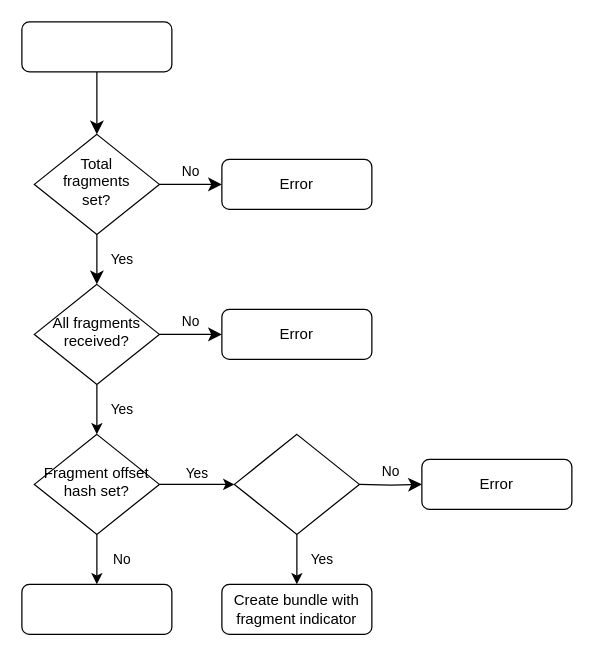
Image size: 594x656. Some labels were removed from this diagram. The centre of each missing label's shape, as x and y in pixels:
"combine" goes at point (96, 46).
"Create bundle" goes at point (96, 608).
"TADUL & fragment offset set?" goes at point (296, 483).
